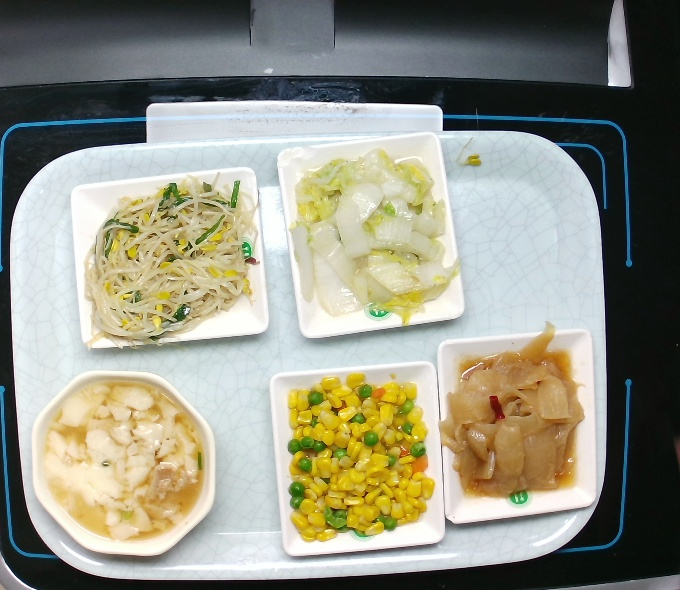wcq-DaBaiCai: (284, 142, 464, 332)
wcq-DongGua: (433, 318, 589, 503)
wcq-DouYa: (78, 167, 268, 359)
wcq-ShuiZhengDan: (36, 373, 211, 551)
wcq-TianMiTianDou: (280, 370, 439, 545)
